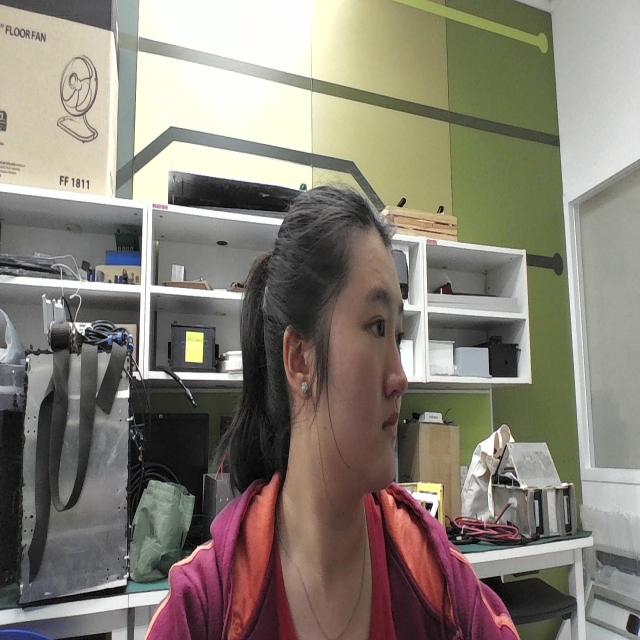Without Helmet: (212, 167, 448, 554)
